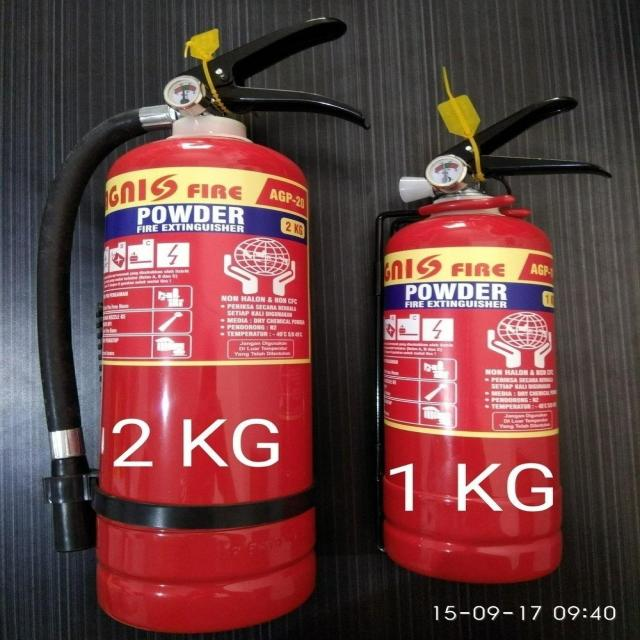fire_extinguisher: (29, 13, 381, 640), (367, 90, 619, 591)
